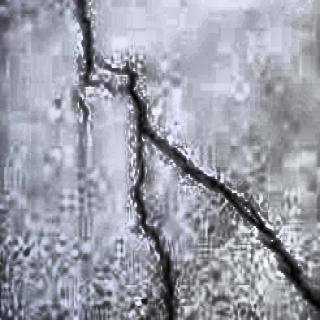crack: (124, 67, 319, 320), (67, 0, 101, 129)
